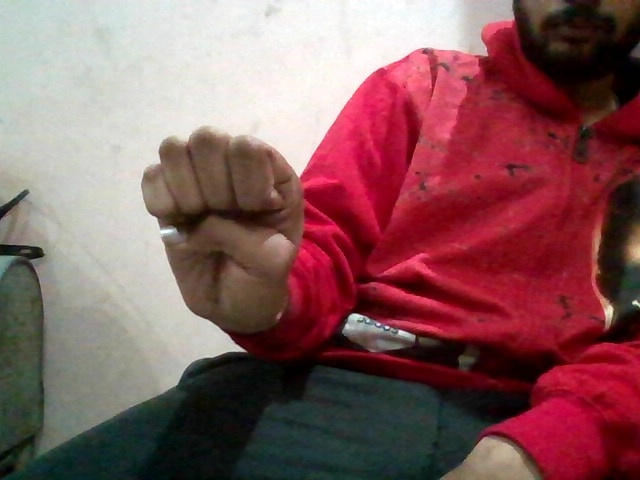E: (112, 119, 341, 339)
